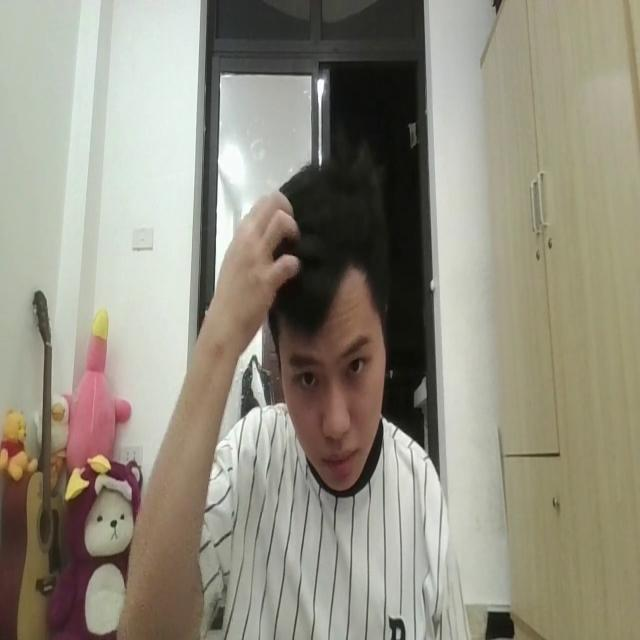student: (124, 148, 467, 640)
